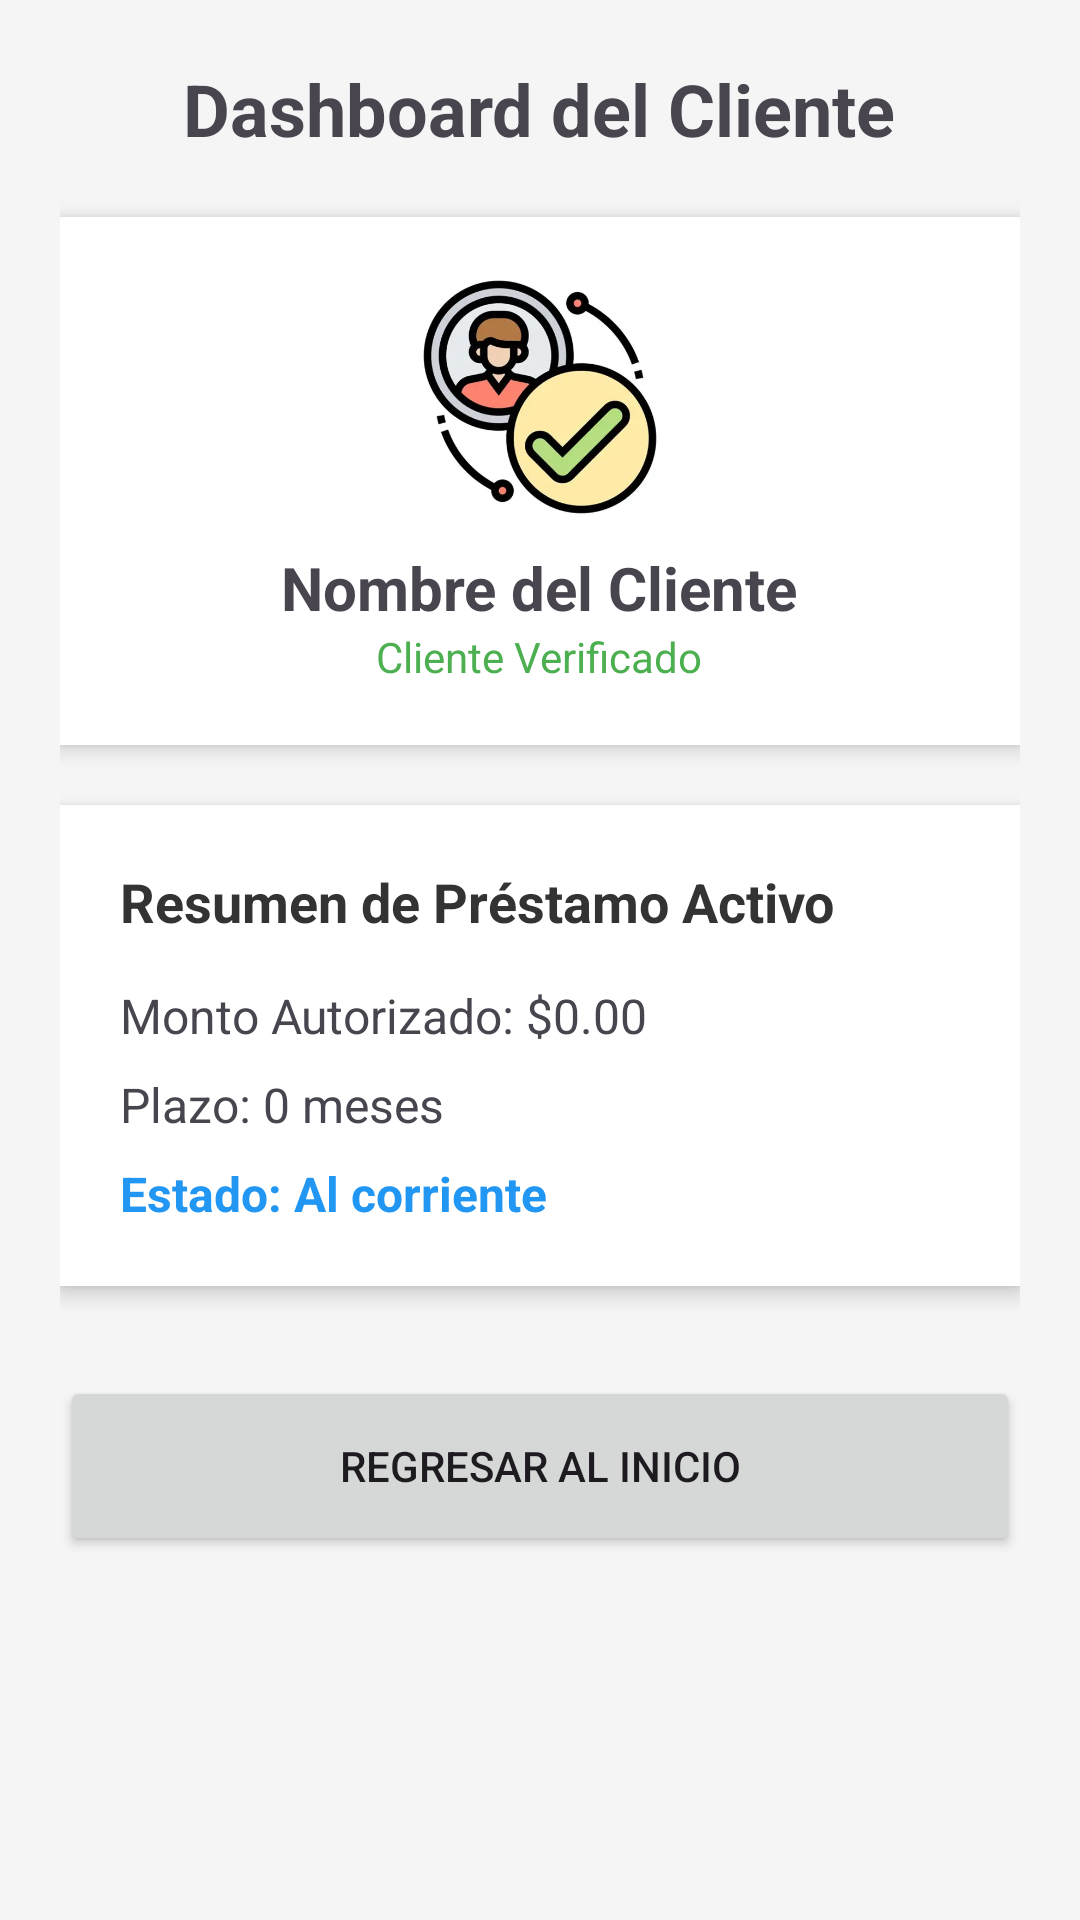

Point at icon controls on the screen. Image size 1080w x 1920h, points as (x=x, y=y).
Foto del cliente: (x=540, y=397)
